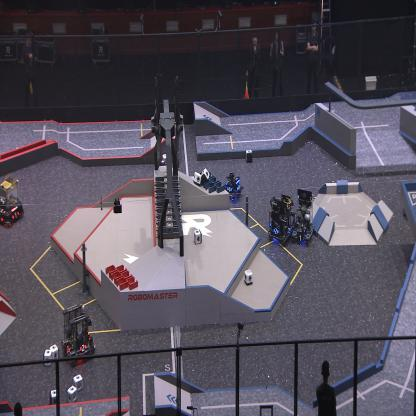car: (60, 304, 96, 364), (266, 194, 296, 246), (0, 174, 25, 228), (293, 189, 314, 246), (223, 171, 244, 203)
